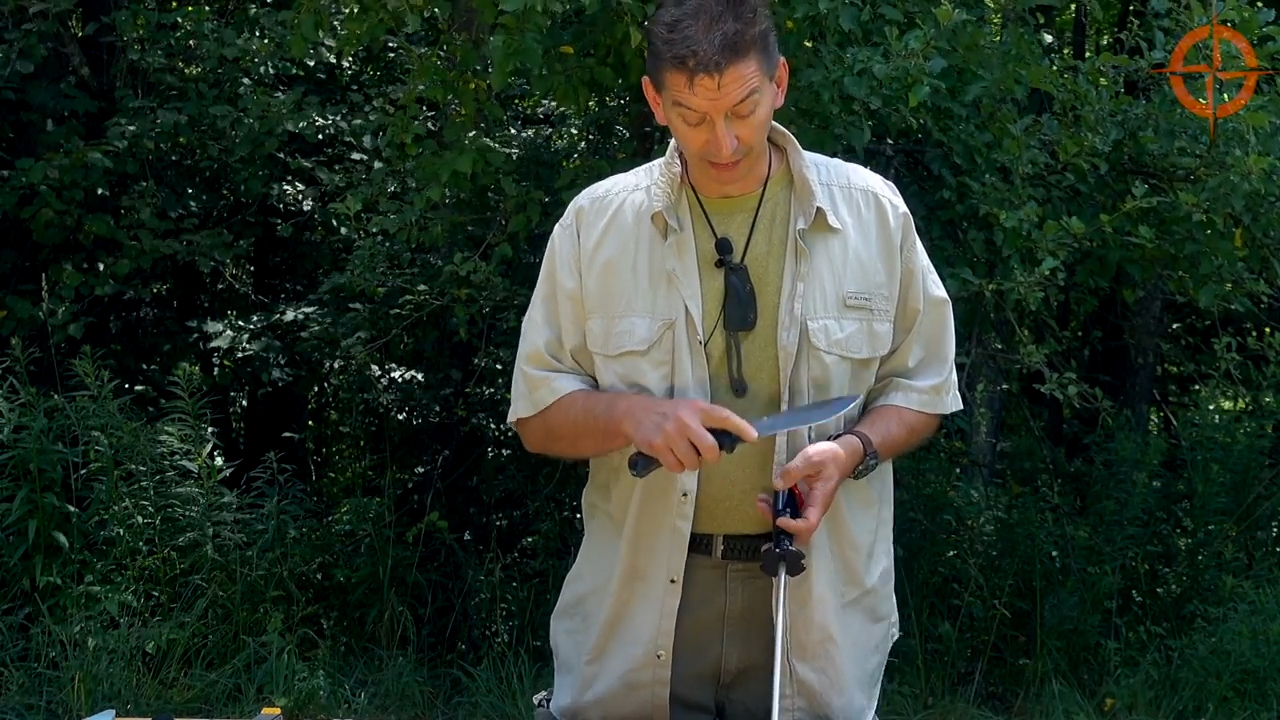knife: (620, 388, 866, 484)
